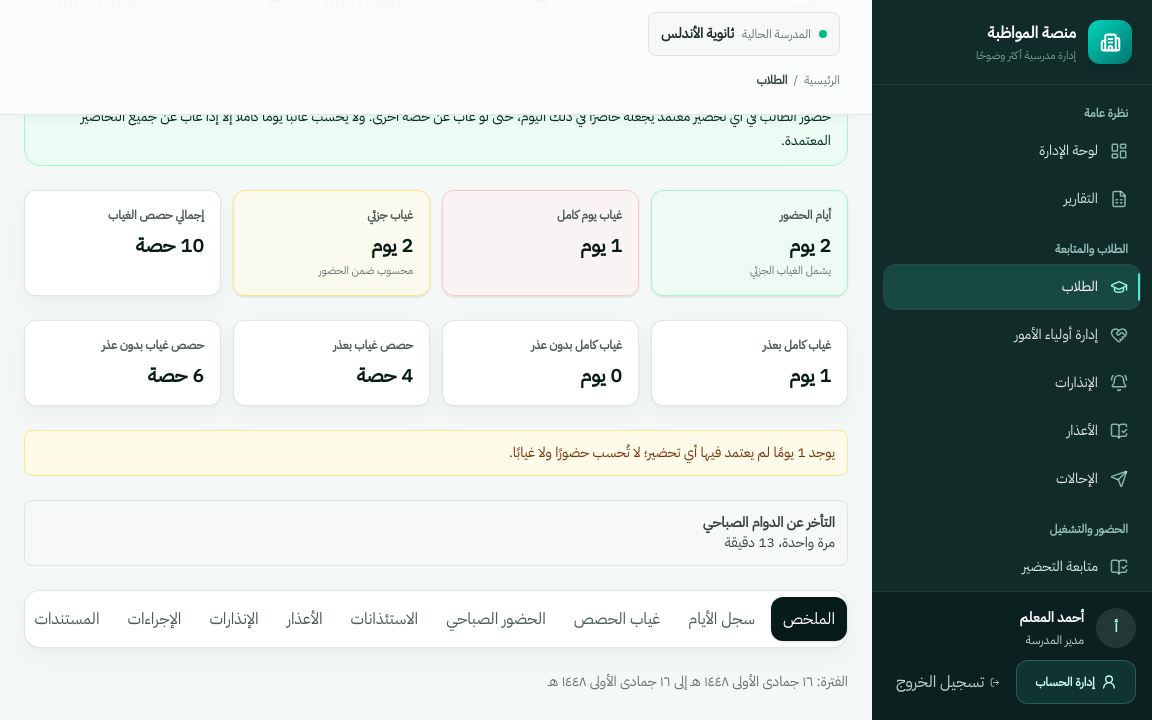
student attendance profile (Phase 9) › lists the student's excuses in the excuses tab
(page scrolled)
Click the button "الأعذار": click(305, 619) [275,597,335,641]
(page scrolled)
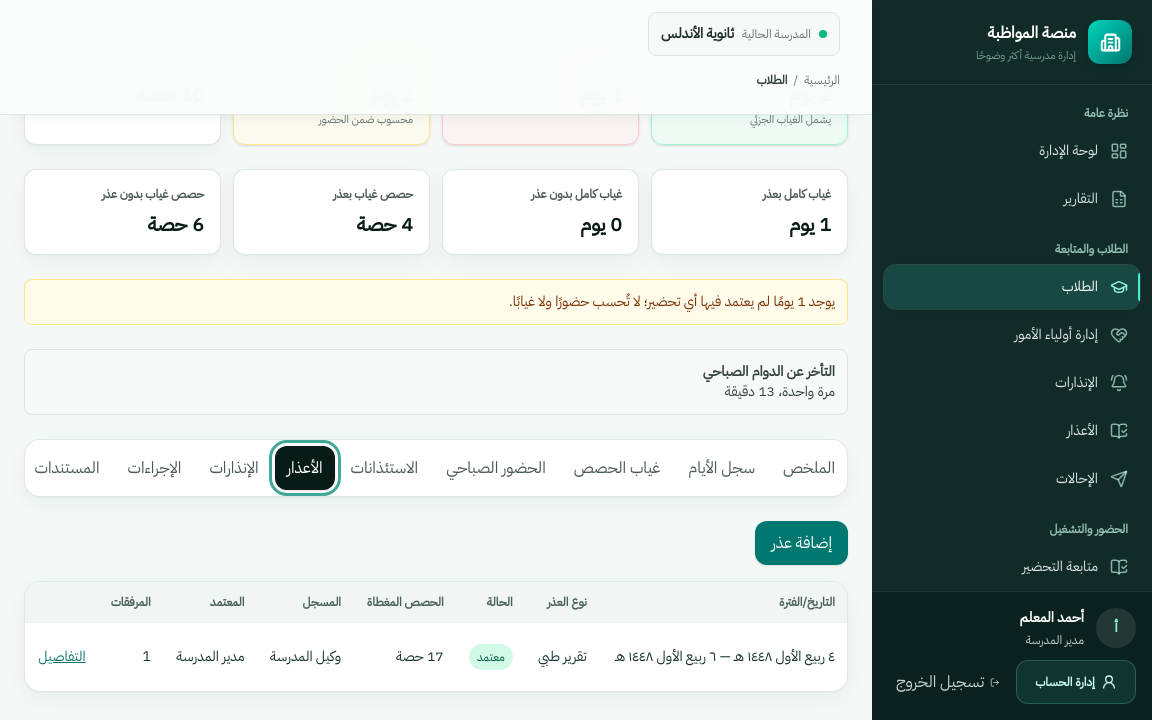
Expected: the row with test id "profile-excuse-7" shows "تقرير طبي", [538,646,587,667]
Expected: the row with test id "profile-excuse-7" shows "معتمد", [477,648,505,666]
Expected: the row with test id "profile-excuse-7" shows "17 حصة", [25,623,847,691]
